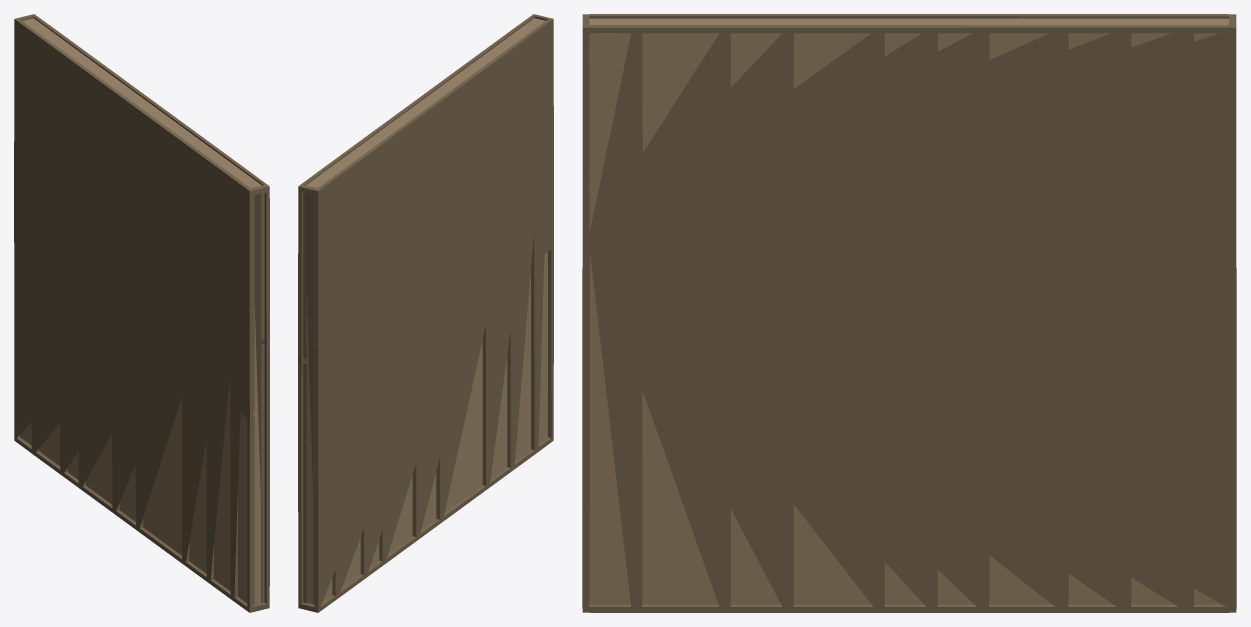
File: Wall.fbx
3 views of the same model, side by side, from view 1: azimuth 30°, elevation 25°; view 2: azimuth 150°, elevation 25°; view 3: azimuth 270°, elevation 25° (orthographic). The views are drawn at different scales.
Parts seen in each view (by area): view 1: Details, LightWood; view 2: Details, LightWood; view 3: Details, LightWood.
Part boxes in pixels (bbox=[...]): Details: bbox=[14, 14, 269, 612]; LightWood: bbox=[20, 18, 261, 604]; Details: bbox=[298, 14, 553, 612]; LightWood: bbox=[304, 18, 547, 604]; Details: bbox=[582, 14, 1236, 612]; LightWood: bbox=[589, 18, 1228, 604].
Bounding box in the file's own units: 0.6031 × 12.11 × 12.26.
